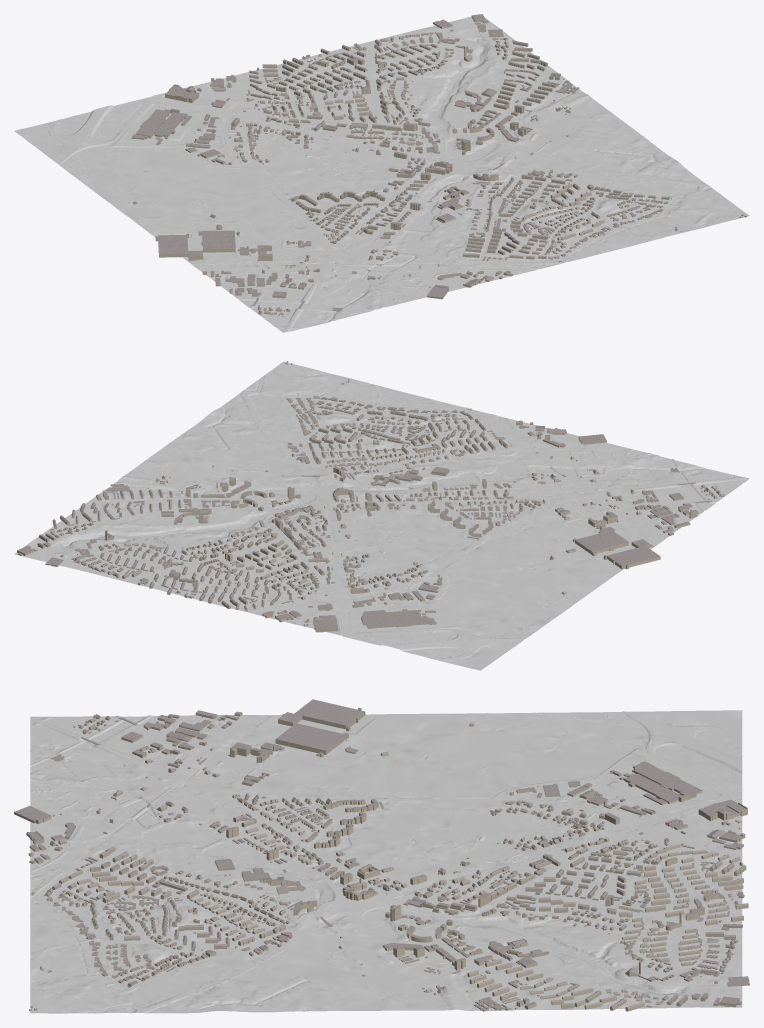
The picture shows the model from 3 angles, top to bottom: view 1: azimuth 30°, elevation 25°; view 2: azimuth 150°, elevation 25°; view 3: azimuth 270°, elevation 25°; orthographic projection. The views are drawn at different scales.
Parts seen in each view (by area): view 1: Terrain.TerrainPatch_470000_5755000, Terrain.TerrainPatch_471000_5754000, Terrain.TerrainPatch_470000_5754000, Terrain.TerrainPatch_471000_5755000, Batch1 (×2); view 2: Terrain.TerrainPatch_470000_5755000, Terrain.TerrainPatch_471000_5754000, Terrain.TerrainPatch_470000_5754000, Terrain.TerrainPatch_471000_5755000, Batch1 (×2); view 3: Terrain.TerrainPatch_470000_5755000, Terrain.TerrainPatch_471000_5754000, Terrain.TerrainPatch_470000_5754000, Terrain.TerrainPatch_471000_5755000, Batch1 (×4).
Part boxes in pixels (bbox=[...]): Terrain.TerrainPatch_470000_5755000: bbox=[14, 72, 381, 232]; Terrain.TerrainPatch_471000_5754000: bbox=[382, 115, 749, 274]; Terrain.TerrainPatch_470000_5754000: bbox=[149, 174, 516, 332]; Terrain.TerrainPatch_471000_5755000: bbox=[248, 16, 614, 174]; Batch1 (×2): bbox=[155, 230, 235, 254]; Terrain.TerrainPatch_470000_5755000: bbox=[247, 517, 614, 670]; Terrain.TerrainPatch_471000_5754000: bbox=[149, 361, 516, 517]; Terrain.TerrainPatch_470000_5754000: bbox=[382, 420, 749, 574]; Terrain.TerrainPatch_471000_5755000: bbox=[14, 458, 381, 611]; Batch1 (×2): bbox=[575, 530, 659, 568]; Terrain.TerrainPatch_470000_5755000: bbox=[386, 710, 742, 863]; Terrain.TerrainPatch_471000_5754000: bbox=[30, 863, 386, 1013]; Terrain.TerrainPatch_470000_5754000: bbox=[30, 714, 386, 865]; Terrain.TerrainPatch_471000_5755000: bbox=[386, 858, 742, 1010]; Batch1 (×4): bbox=[276, 699, 701, 801].
Bounding box in the file's own units: 2093 × 72.84 × 2067.
